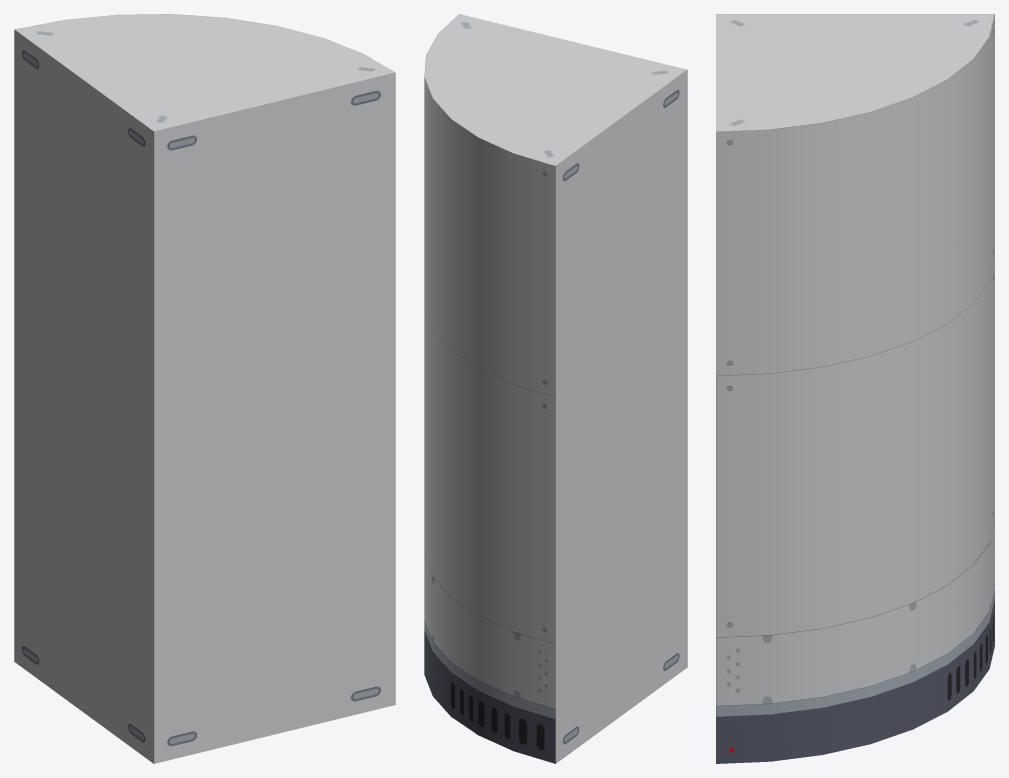
The model's file is Wall_Coin_Simple_02_B.FBX.
The picture shows the model from 3 angles, left to right: view 1: azimuth 30°, elevation 25°; view 2: azimuth 150°, elevation 25°; view 3: azimuth 270°, elevation 25°; orthographic projection. The views are drawn at different scales.
Visible parts, largest first — view 1: Wall_Coin_Simple_02_B; view 2: Wall_Coin_Simple_02_B; view 3: Wall_Coin_Simple_02_B.
Part boxes in pixels (x1,y1,x2,y2): Wall_Coin_Simple_02_B: (14,14,395,763); Wall_Coin_Simple_02_B: (424,14,687,763); Wall_Coin_Simple_02_B: (716,14,994,763).
Bounding box in the file's own units: 2 × 5 × 2.
2 materials, 2 textured.
